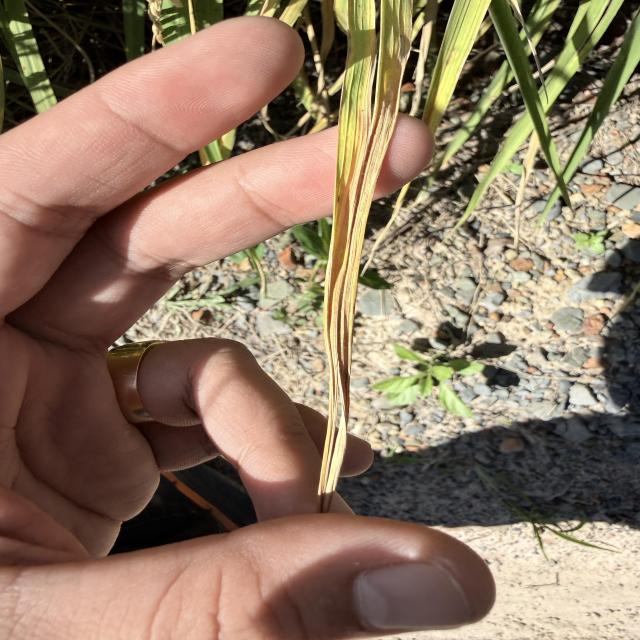Chay bia la: (316, 76, 399, 514)
